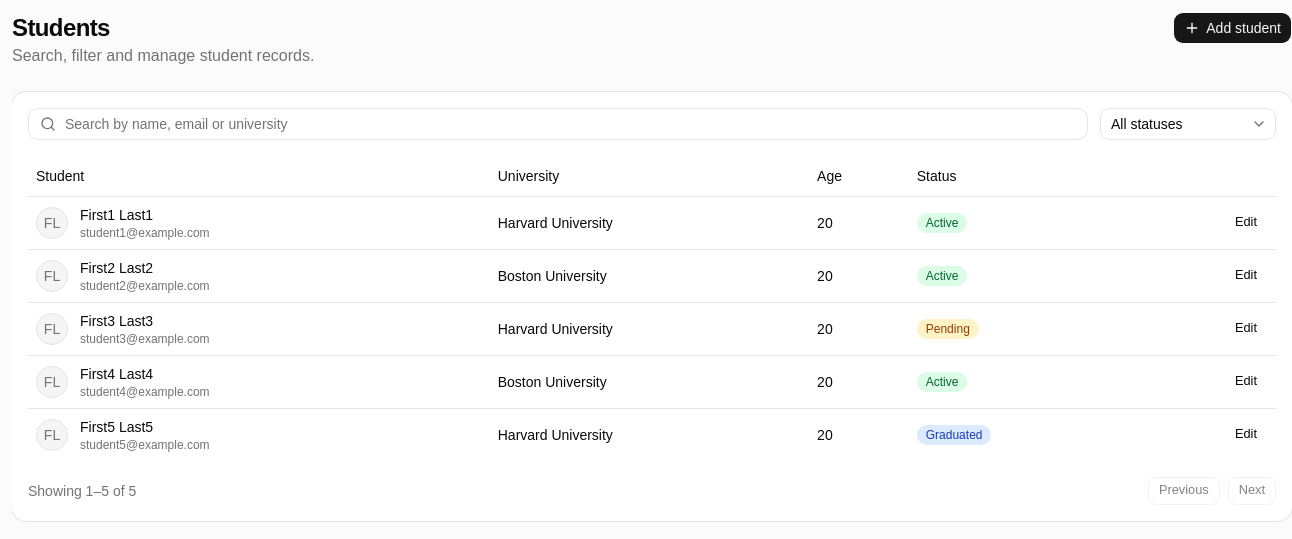
StudentsPage › shows an empty state when nothing matches
Type "nobody by this name" into the search field named "Search students" at {"x": 558, "y": 124}, box [28,108,1088,140]
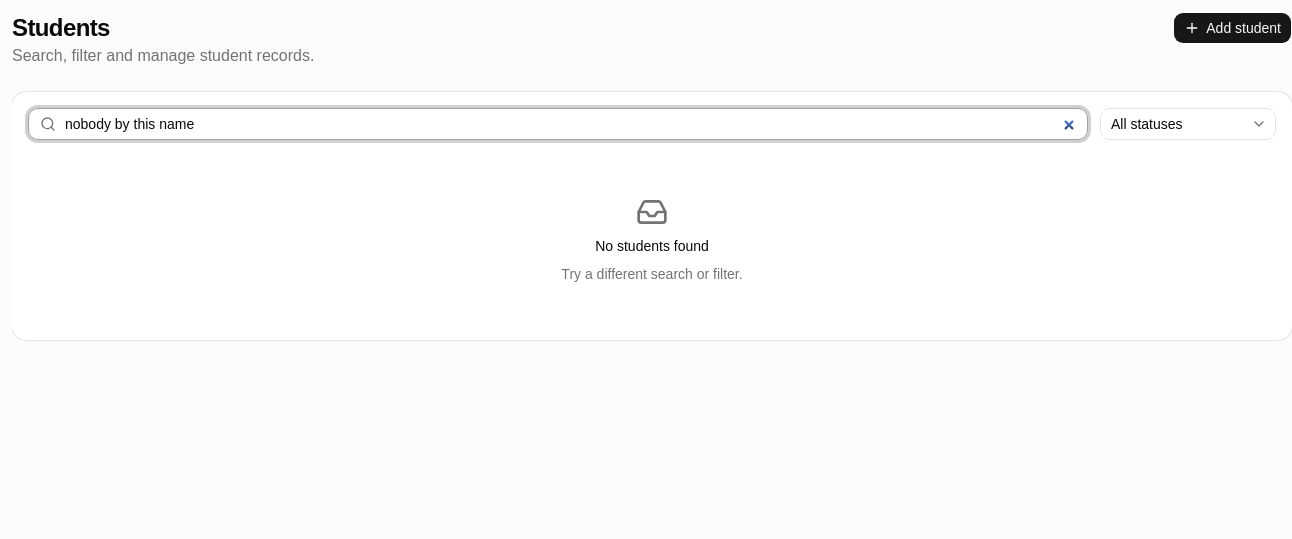
Now the text "No students found" is shown, box [595,236,709,256]
